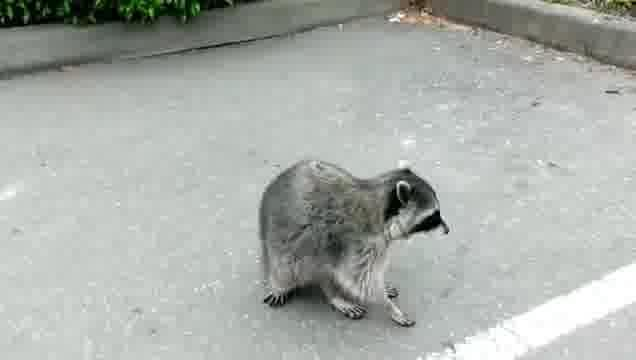raccoon: (257, 155, 453, 331)
